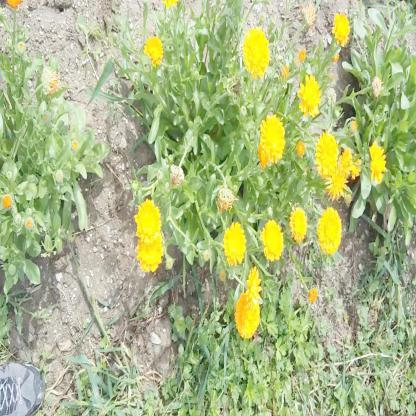marigold: (259, 115, 285, 165), (243, 29, 271, 74), (135, 231, 164, 274), (318, 207, 342, 255), (134, 199, 160, 240), (326, 158, 350, 198), (235, 294, 257, 336), (260, 222, 283, 262), (316, 131, 338, 172), (223, 224, 245, 264), (330, 10, 352, 48), (299, 75, 320, 113), (368, 142, 388, 181), (143, 35, 163, 65), (291, 207, 309, 240), (245, 264, 261, 298), (337, 146, 352, 179), (347, 151, 362, 179)
